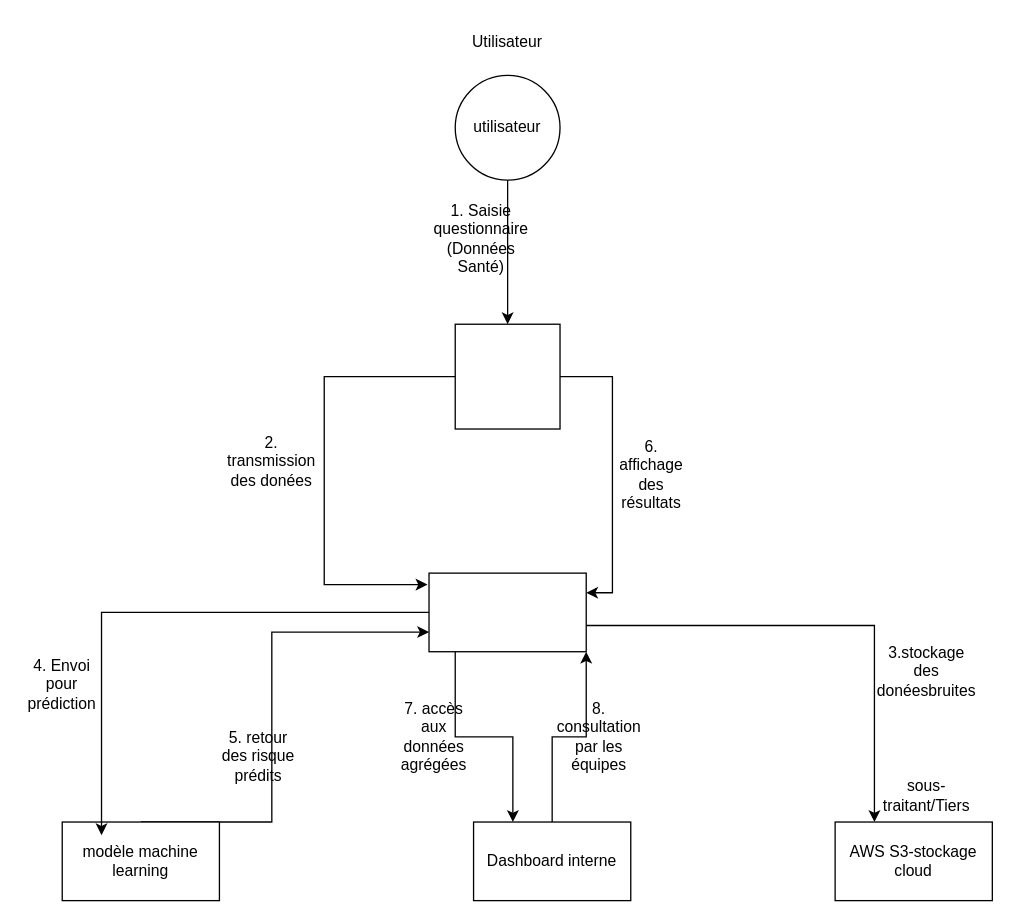
The diagram is 1015 pixels wide and 924 high, and some of its shapes have lost their labels. The shapes that lost their labels are listed below. From the top down, each one's box as (x1, y1, x2, y2) in pixels, then its label:
(454, 323, 560, 429): Application web
(428, 572, 586, 652): API Backend
